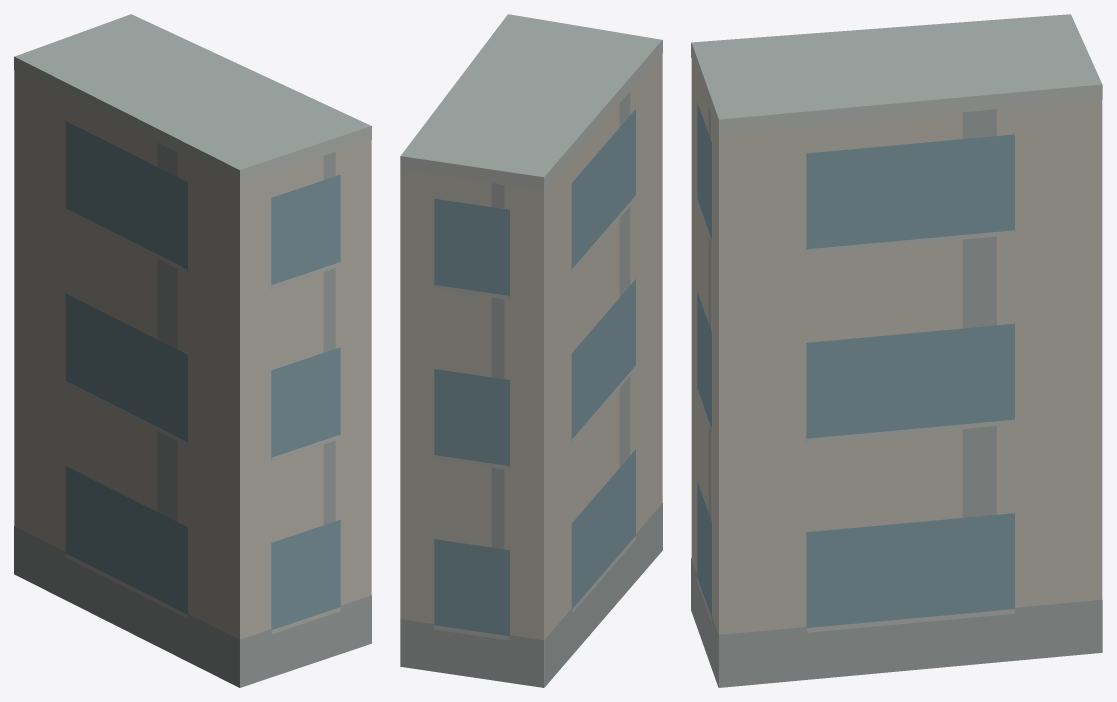
The model's file is survey-upis-32928225.glb.
3 views of the same model, side by side, from view 1: azimuth 30°, elevation 25°; view 2: azimuth 150°, elevation 25°; view 3: azimuth 270°, elevation 25° (orthographic). The views are drawn at different scales.
Parts seen in each view (by area): view 1: survey-upis-32928225.tmp; view 2: survey-upis-32928225.tmp; view 3: survey-upis-32928225.tmp.
Boxes of the visible parts, x1,y1,x2,y2 form: survey-upis-32928225.tmp: (14, 14, 371, 687); survey-upis-32928225.tmp: (400, 14, 662, 687); survey-upis-32928225.tmp: (691, 14, 1102, 687).
Bounding box in the file's own units: 3.65 × 9.15 × 6.01.
